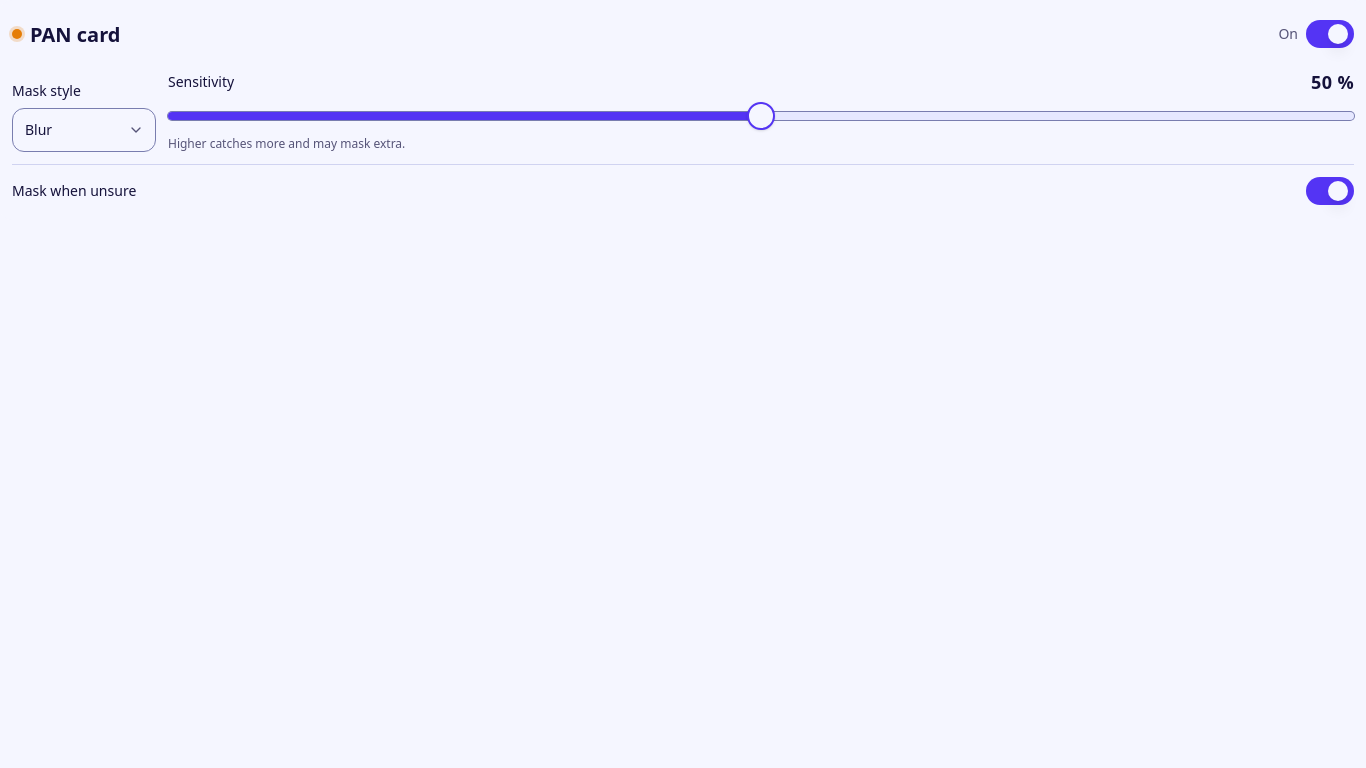
CategoryToggle › asks before turning pan off, and only turns it off after Turn off
Later steps or results of the test are not shown.
Click the switch named "Protect: PAN card" at (1330, 34), box [1306,20,1354,48]
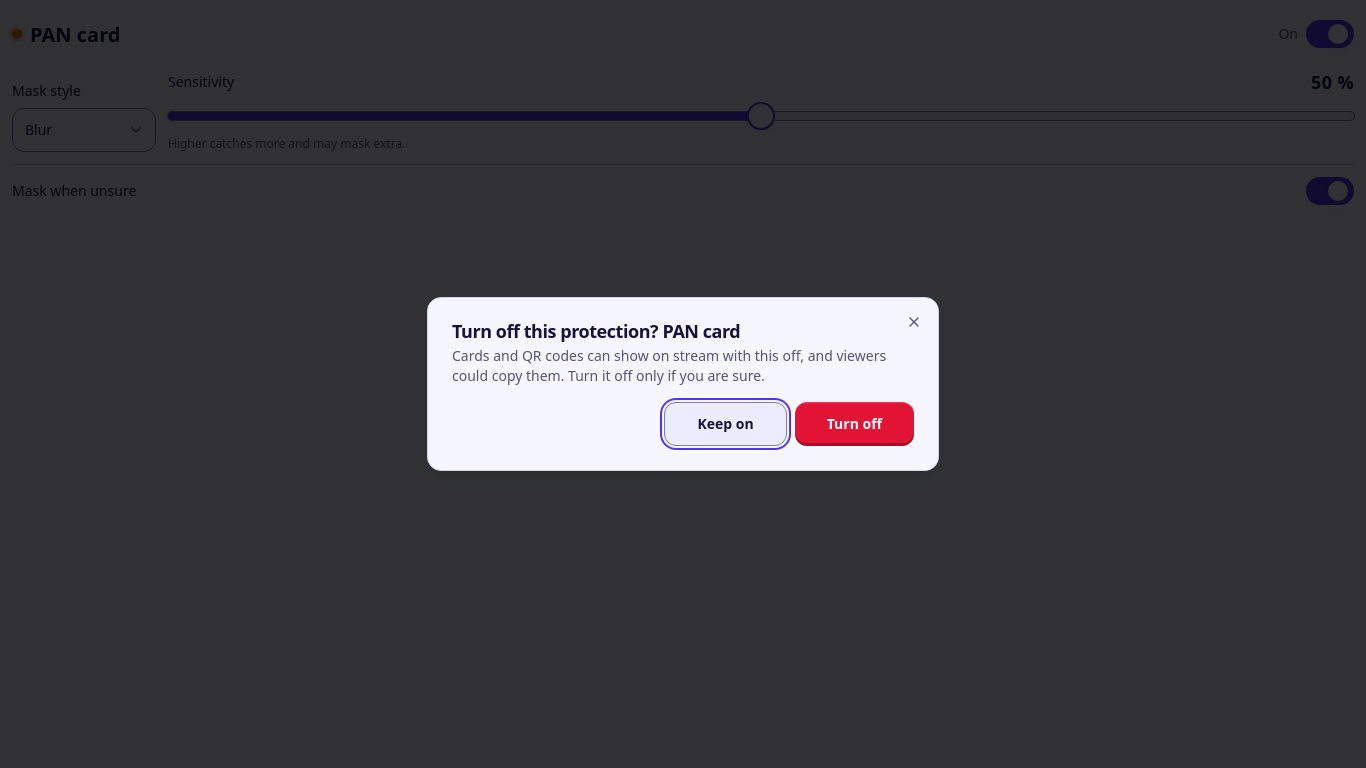
Expected: the text "Cards and QR codes can show on stream" is shown, [452,346,886,385]
